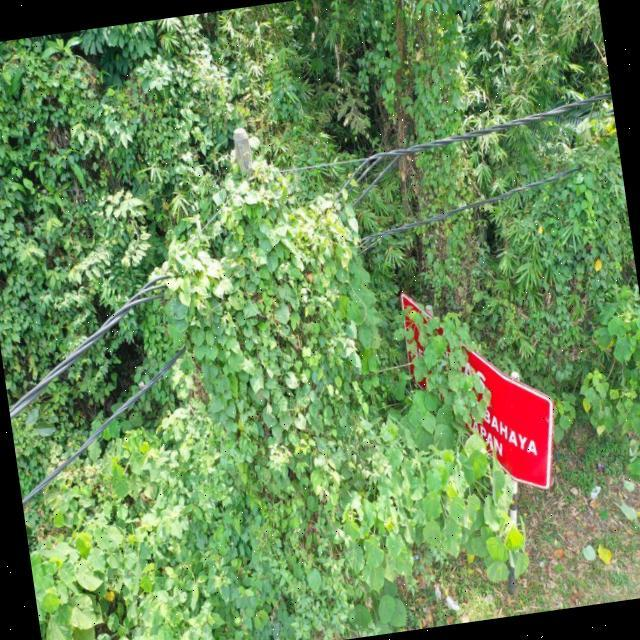critical vegetation: (128, 118, 424, 595)
